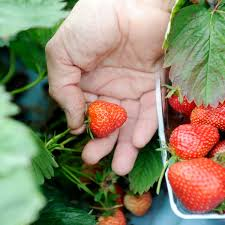ripe: (163, 159, 224, 220), (82, 99, 128, 139), (169, 127, 218, 161), (189, 96, 222, 136), (170, 84, 194, 115)
unripe: (124, 186, 158, 221)
